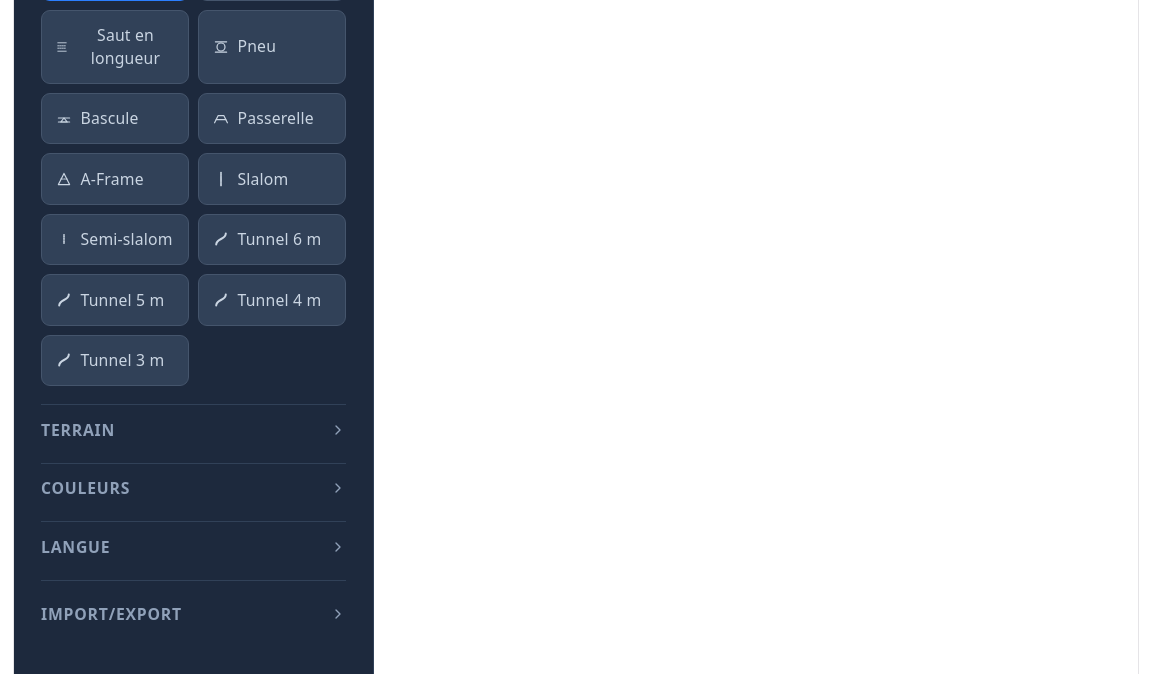
Scenario: Sidebar accessibilité › les sections sont des groupes labellisés (après ouverture)
This screenshot has width=1152, height=674.
(page scrolled)
// Sections closed by default: open them via their accordion title
Click the button "Couleurs" at [86, 488], box [41, 464, 346, 513]
(page scrolled)
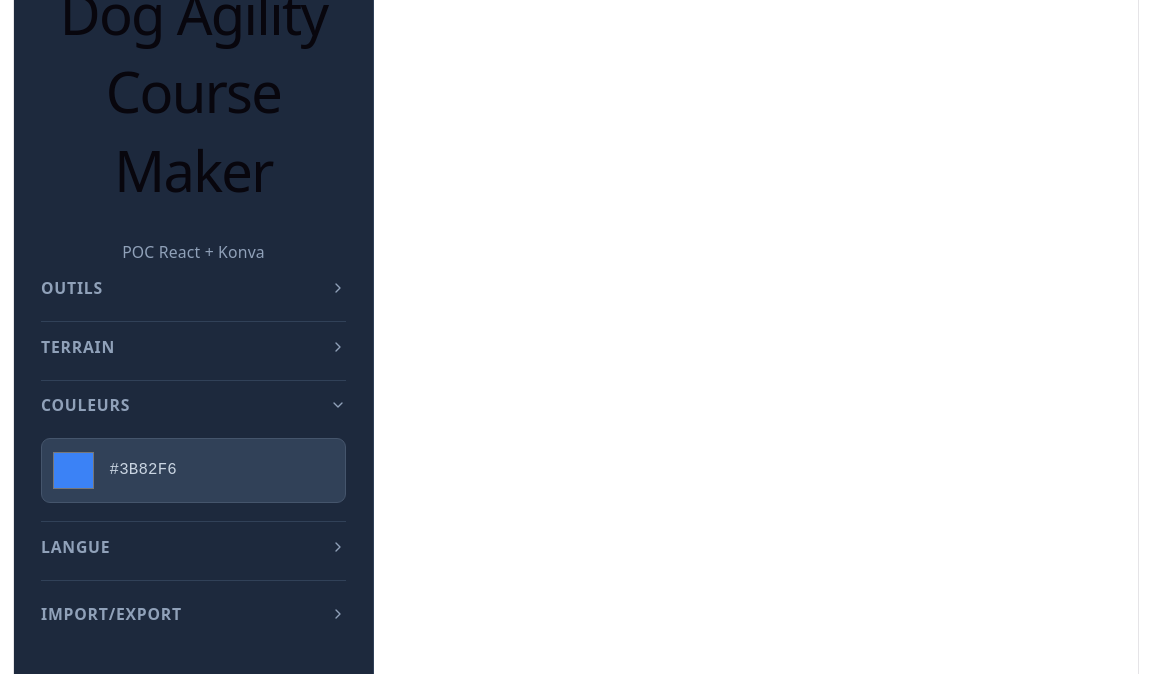
Expected: the element named "choix de la couleur" is shown, [41, 438, 346, 503]
Click the button "Import/Export" at [111, 614], box [41, 590, 346, 639]
(page scrolled)
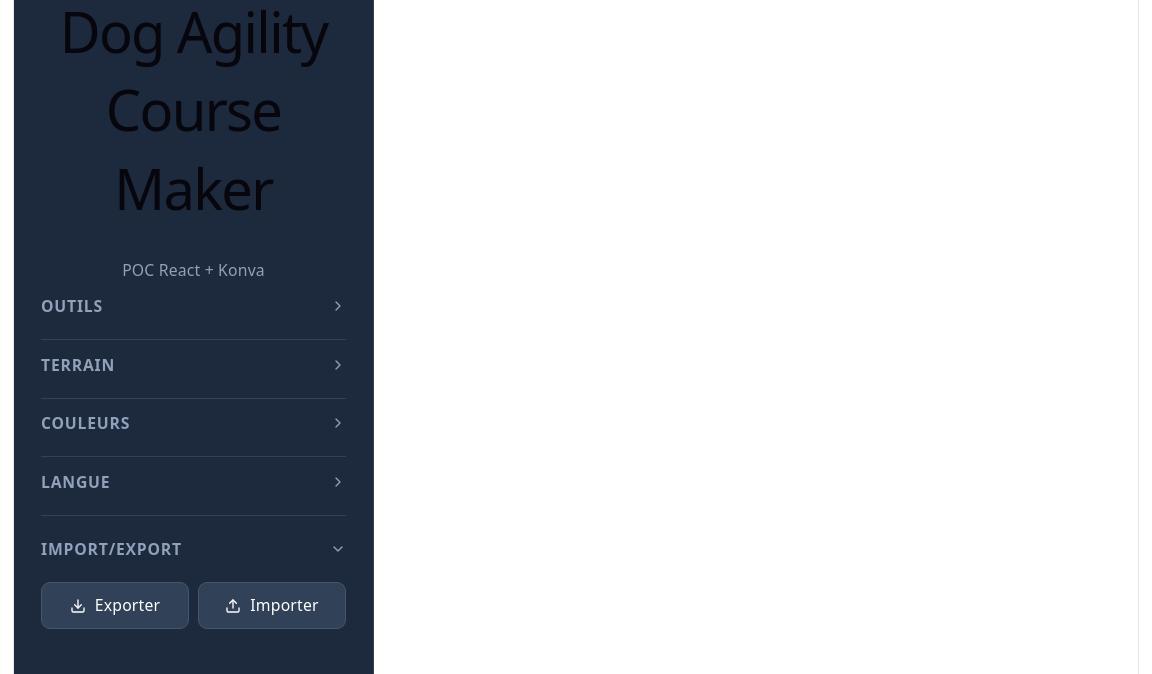
Expected: the element named "import et export" is shown, [41, 582, 346, 629]
